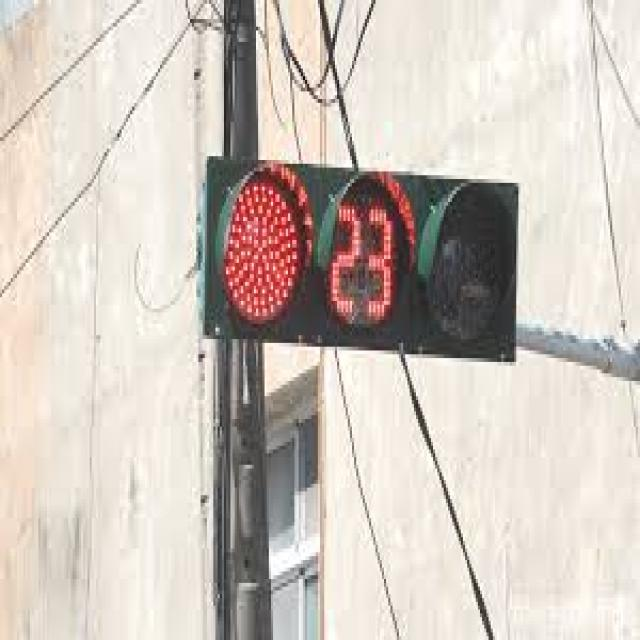red light: (199, 152, 520, 364)
